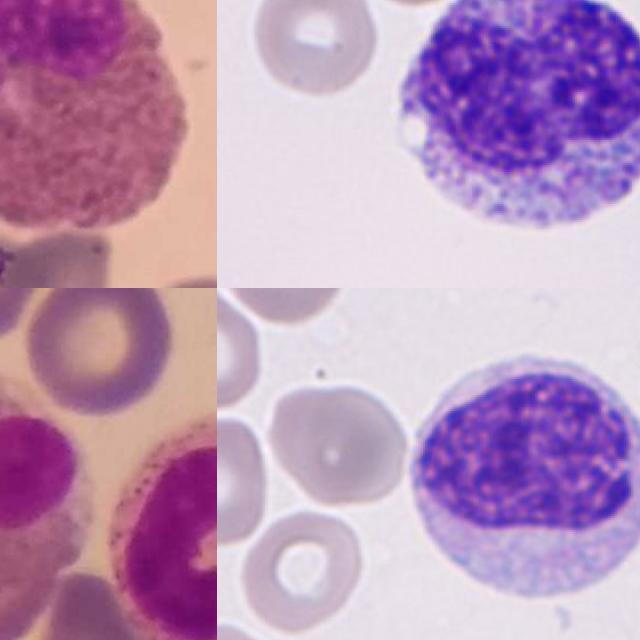Eosinophil: (0, 0, 195, 234), (0, 361, 91, 640)
Lymphocyte: (400, 340, 640, 621), (379, 0, 640, 251)
Monocyte: (104, 411, 217, 640)
RBC: (265, 377, 414, 509), (236, 509, 370, 637), (244, 0, 384, 102), (217, 411, 274, 549), (217, 288, 266, 416), (217, 288, 352, 329)
